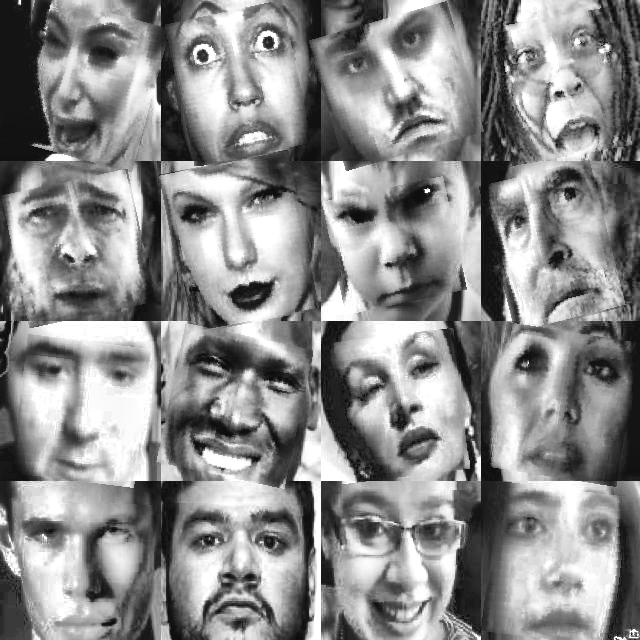angry: (317, 10, 477, 162), (488, 165, 618, 329), (8, 175, 149, 323), (328, 182, 462, 310)
fear: (485, 485, 640, 640), (490, 327, 634, 483), (172, 5, 306, 161), (494, 12, 626, 162)
happy: (166, 154, 312, 328), (162, 329, 306, 483), (324, 491, 471, 640)
neutral: (329, 332, 466, 480), (15, 338, 147, 484), (15, 502, 153, 640), (169, 503, 307, 640)
sad: (7, 1, 161, 164)
